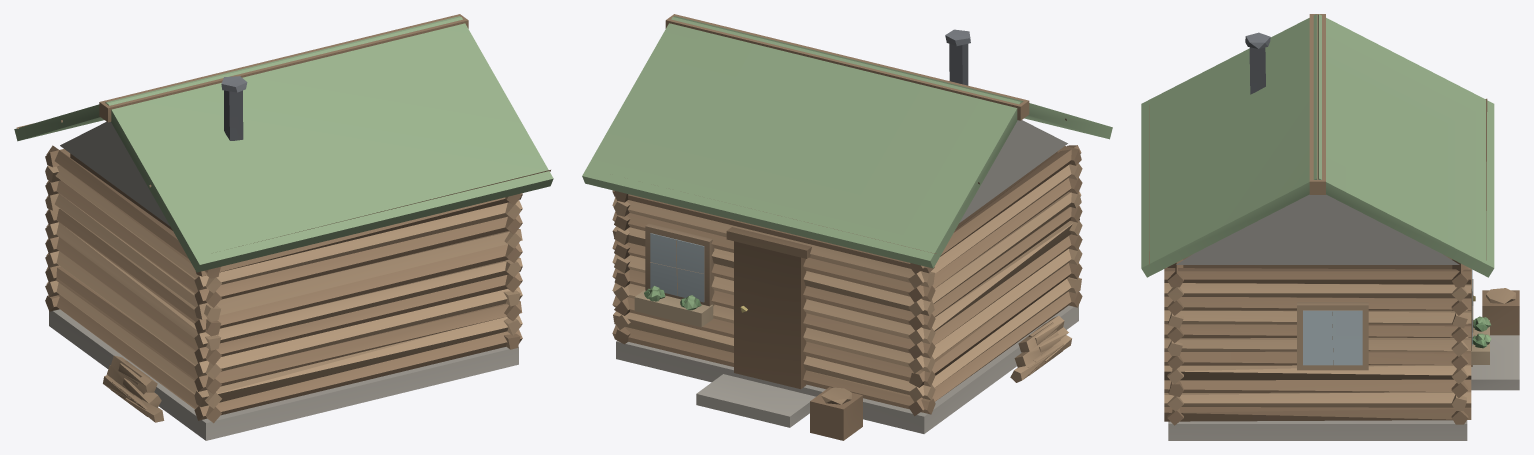
Rendered from home_hut__green_low.glb.
The picture shows the model from 3 angles, left to right: view 1: azimuth 30°, elevation 25°; view 2: azimuth 150°, elevation 25°; view 3: azimuth 270°, elevation 25°; orthographic projection. The views are drawn at different scales.
Size of the model in its own units: 5.3 by 4.31 by 5.06.
